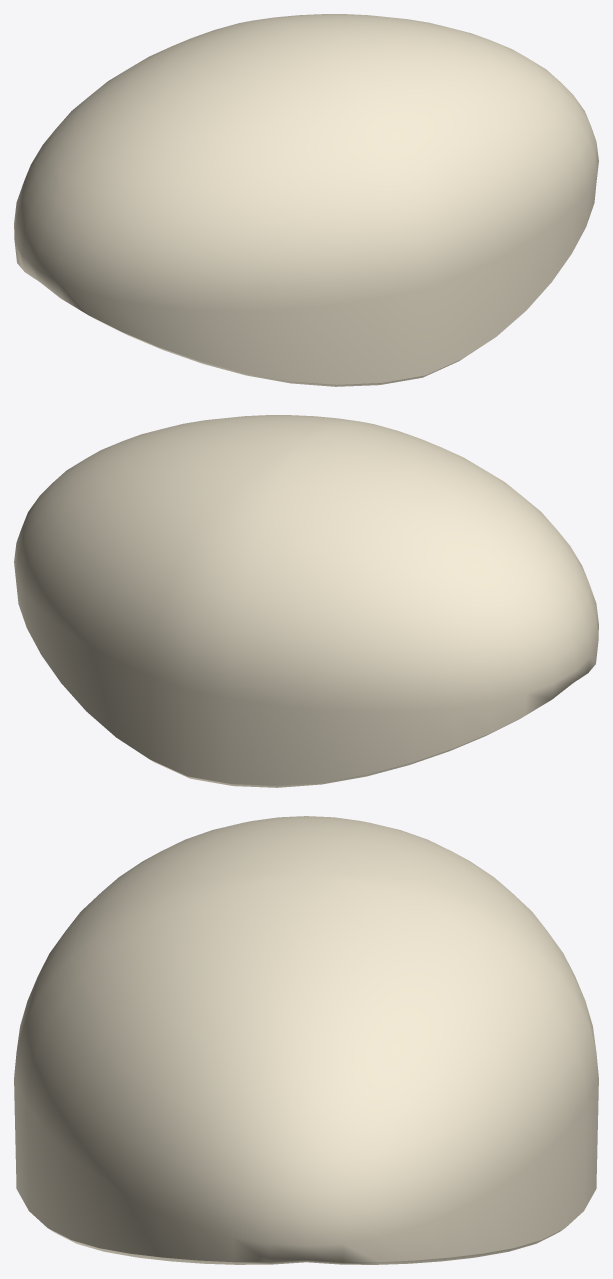
The model's file is cowrie_a7.glb.
3 renders of one model, top to bottom at view 1: azimuth 30°, elevation 25°; view 2: azimuth 150°, elevation 25°; view 3: azimuth 270°, elevation 25°, orthographic. The views are drawn at different scales.
Parts seen in each view (by area): view 1: cowrie_a7; view 2: cowrie_a7; view 3: cowrie_a7.
Part boxes in pixels (<box>): cowrie_a7: <box>14,14,598,386</box>; cowrie_a7: <box>14,415,598,787</box>; cowrie_a7: <box>14,816,598,1264</box>.
Size of the model in its own units: 0.0235 by 0.0107 by 0.0174.
